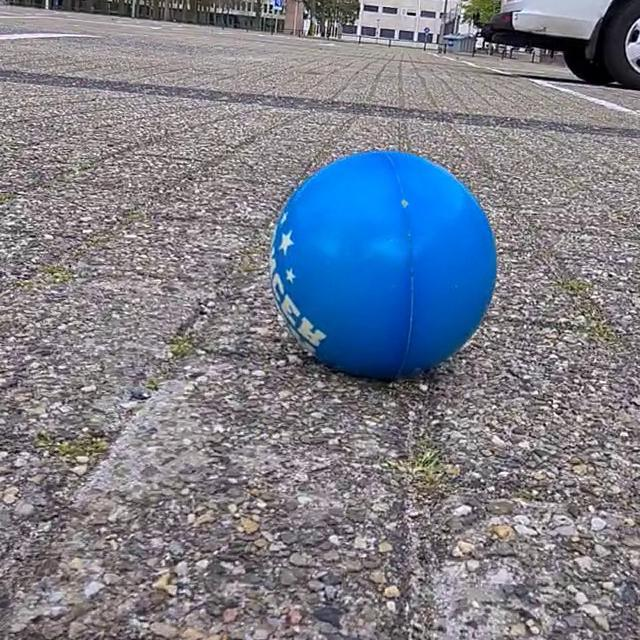ball: (328, 146, 498, 380)
